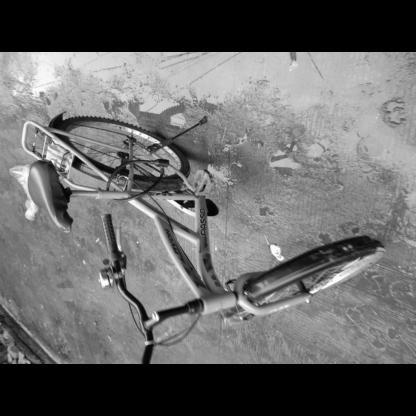Bicycle: (0, 85, 404, 363)
